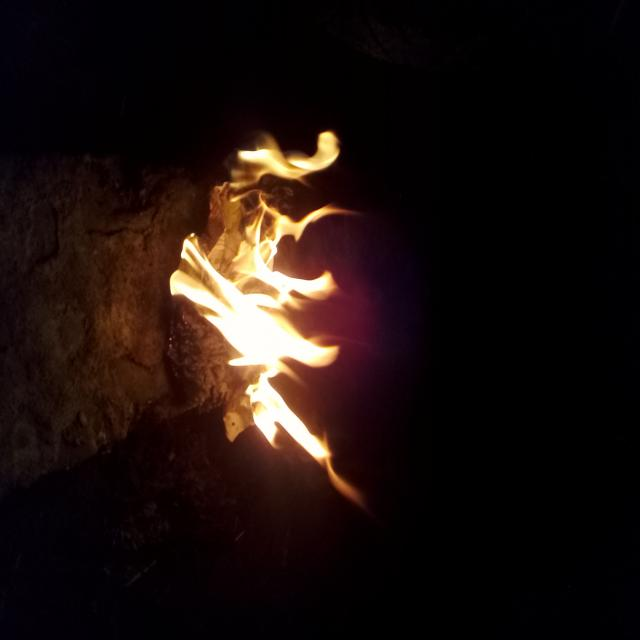Fire: (98, 365, 382, 628)
